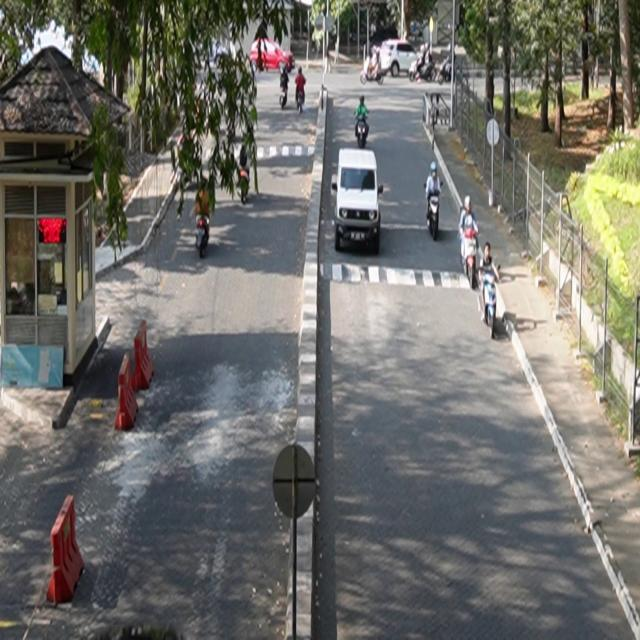car: (332, 149, 384, 255), (251, 39, 296, 74)
